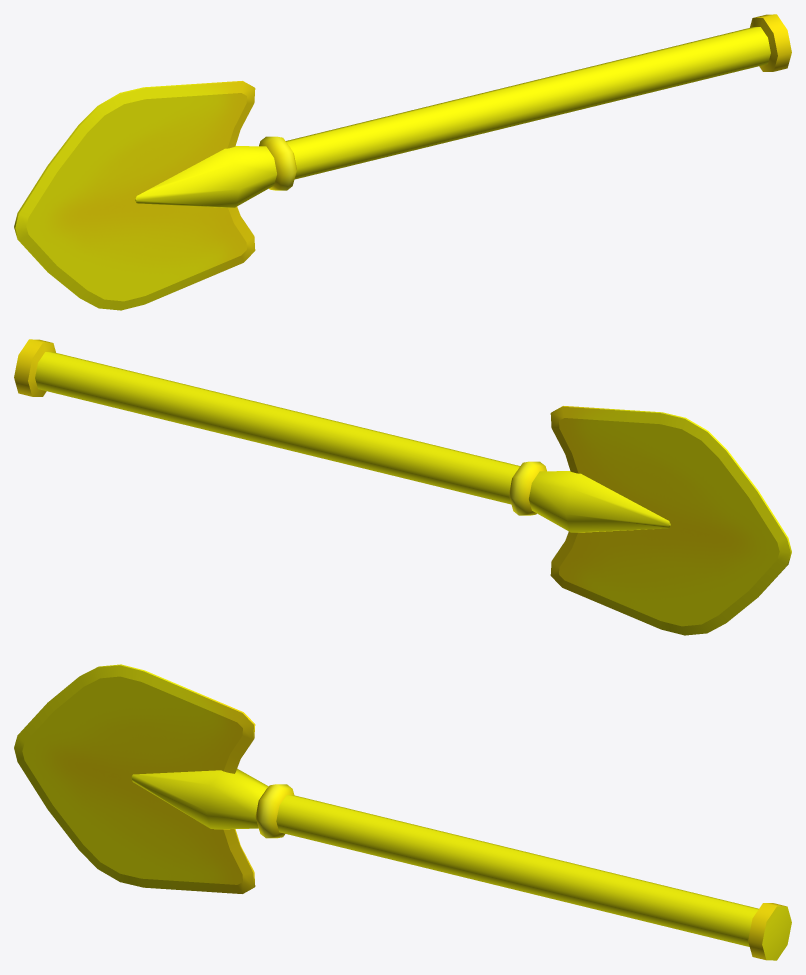
The model's file is shovel.fbx.
The picture shows the model from 3 angles, top to bottom: view 1: azimuth 30°, elevation 25°; view 2: azimuth 150°, elevation 25°; view 3: azimuth 330°, elevation 25°; orthographic projection.
Visible parts, largest first — view 1: shovel; view 2: shovel; view 3: shovel.
Boxes of the visible parts, x1,y1,x2,y2 form: shovel: (14, 14, 791, 310); shovel: (14, 339, 791, 635); shovel: (14, 664, 791, 960).
Size of the model in its own units: 50.87 by 13.78 by 3.95.
